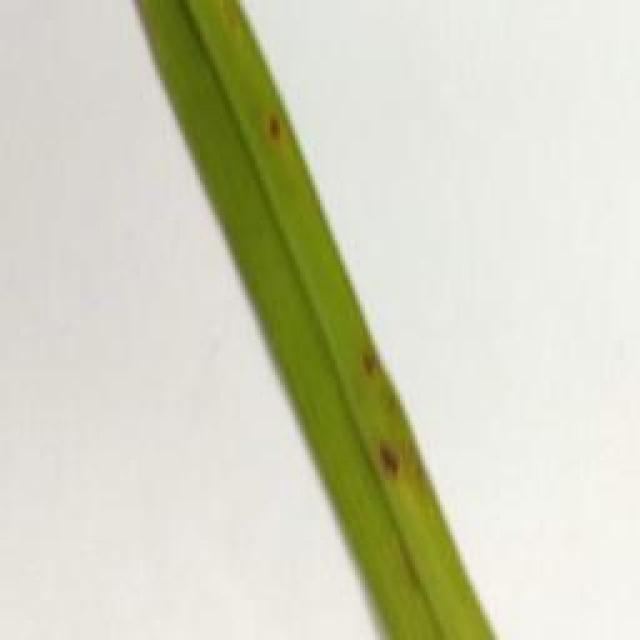Brown_Spot: (366, 434, 403, 485), (256, 103, 290, 149), (348, 347, 379, 376)
